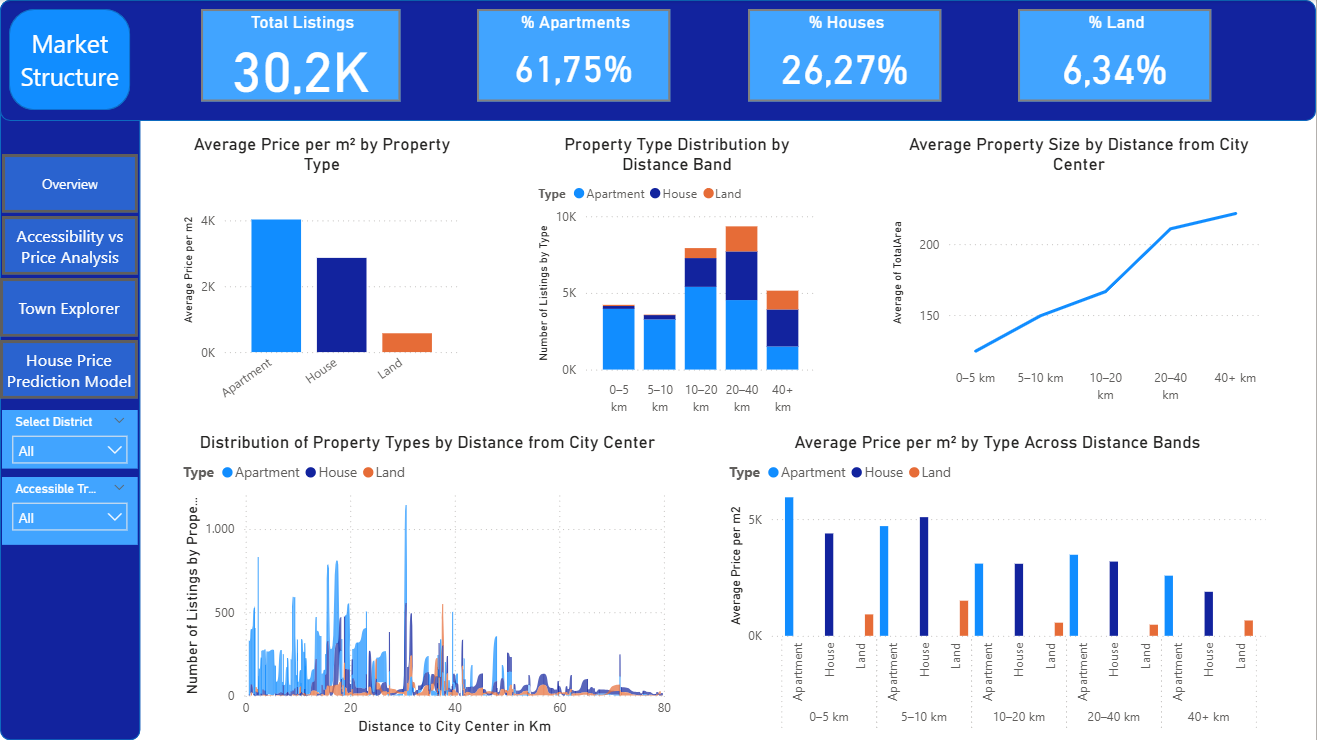

What the dashboard file says about the page in this screenshot:
{"tool":"powerbi","page":{"name":"Market Structure","canvas":[1280,720],"ordinal":1},"visuals":[{"type":"clusteredColumnChart","title":"Average Price per m² by Property Type","fields":{"Category":["housing_with_citycenter_times_final1.Type"],"Y":["Avg(housing_with_citycenter_times_final1.price_per_m2)"]},"box":[173.1,130.3,280.1,280.1],"z":0},{"type":"columnChart","title":"Property Type Distribution by Distance Band","fields":{"Category":["housing_with_citycenter_times_final1.DistanceBand"],"Y":["CountNonNull(housing_with_citycenter_times_final1.Type)"],"Series":["housing_with_citycenter_times_final1.Type"]},"box":[517.9,130.3,280.1,280.1],"z":1000},{"type":"clusteredColumnChart","title":"Average Price per m² by Type Across Distance Bands","fields":{"Category":["housing_with_citycenter_times_final1.DistanceBand","housing_with_citycenter_times_final1.Type"],"Series":["housing_with_citycenter_times_final1.Type"],"Y":["Avg(housing_with_citycenter_times_final1.price_per_m2)"]},"box":[704.2,420.2,532,299.6],"z":2000},{"type":"ribbonChart","title":"Distribution of Property Types by Distance from City Center","fields":{"Category":["housing_with_citycenter_times_final1.drive_km_final"],"Y":["CountNonNull(housing_with_citycenter_times_final1.Type)"],"Series":["housing_with_citycenter_times_final1.Type"]},"box":[173.1,420.2,485.3,299.6],"z":3000},{"type":"lineChart","title":"Average Property Size by Distance from City Center","fields":{"Category":["housing_with_citycenter_times_final1.DistanceBand"],"Y":["Avg(housing_with_citycenter_times_final1.TotalArea)"]},"box":[862.7,130.3,373.5,268.4],"z":4000},{"type":"shape","box":[0,0.3,136.6,720],"z":4001},{"type":"shape","box":[0,0,1280,117.7],"z":4002},{"type":"shape","box":[8.9,8.9,117.9,98.4],"z":4003},{"type":"card","title":"Total Listings","fields":{"Values":["CountNonNull(housing_with_citycenter_times_final1.Type)"]},"box":[195.5,8.8,193.6,90.5],"z":4004},{"type":"card","title":"% Apartments","fields":{"Values":["housing_with_citycenter_times_final1.% Apartments"]},"box":[464.3,8.8,187.7,90.5],"z":4005},{"type":"card","title":"% Houses","fields":{"Values":["housing_with_citycenter_times_final1.% Houses"]},"box":[727.2,8.8,187.7,90.5],"z":4006},{"type":"slicer","fields":{"Values":["housing_with_citycenter_times_final1.District"]},"box":[1.9,398.8,132.3,57.4],"z":4007},{"type":"card","title":"% Land","fields":{"Values":["housing_with_citycenter_times_final1.% Land"]},"box":[990.2,8.8,187.7,90.5],"z":4008},{"type":"slicer","fields":{"Values":["housing_with_citycenter_times_final1.HasTransport"]},"box":[1.9,464,132.3,66.1],"z":4010},{"type":"actionButton","title":"Product Insights","box":[1.9,149.8,132.3,57.4],"z":4011},{"type":"actionButton","title":"Product Insights","box":[1.9,210.1,132.3,57.4],"z":4012},{"type":"actionButton","title":"Product Insights","box":[0,270.4,134.2,57.4],"z":4013},{"type":"actionButton","title":"Product Insights","box":[0,330.7,134.2,57.4],"z":4014}]}

Visuals, with their boxes on the page's 1280x720 design canvas (x1, y1, x2, y2). These are canvas units, not pixel positions in the 1317x740 screenshot, which may show the page scaled, cropped or inside an application window:
"Average Price per m² by Property Type" clusteredColumnChart: bbox=(173, 130, 453, 410)
"Property Type Distribution by Distance Band" columnChart: bbox=(518, 130, 798, 410)
"Average Price per m² by Type Across Distance Bands" clusteredColumnChart: bbox=(704, 420, 1236, 720)
"Distribution of Property Types by Distance from City Center" ribbonChart: bbox=(173, 420, 658, 720)
"Average Property Size by Distance from City Center" lineChart: bbox=(863, 130, 1236, 399)
shape: bbox=(0, 0, 137, 720)
shape: bbox=(0, 0, 1280, 118)
shape: bbox=(9, 9, 127, 107)
"Total Listings" card: bbox=(196, 9, 389, 99)
"% Apartments" card: bbox=(464, 9, 652, 99)
"% Houses" card: bbox=(727, 9, 915, 99)
slicer - housing_with_citycenter_times_final1.District: bbox=(2, 399, 134, 456)
"% Land" card: bbox=(990, 9, 1178, 99)
slicer - housing_with_citycenter_times_final1.HasTransport: bbox=(2, 464, 134, 530)
"Product Insights" actionButton: bbox=(2, 150, 134, 207)
"Product Insights" actionButton: bbox=(2, 210, 134, 268)
"Product Insights" actionButton: bbox=(0, 270, 134, 328)
"Product Insights" actionButton: bbox=(0, 331, 134, 388)
